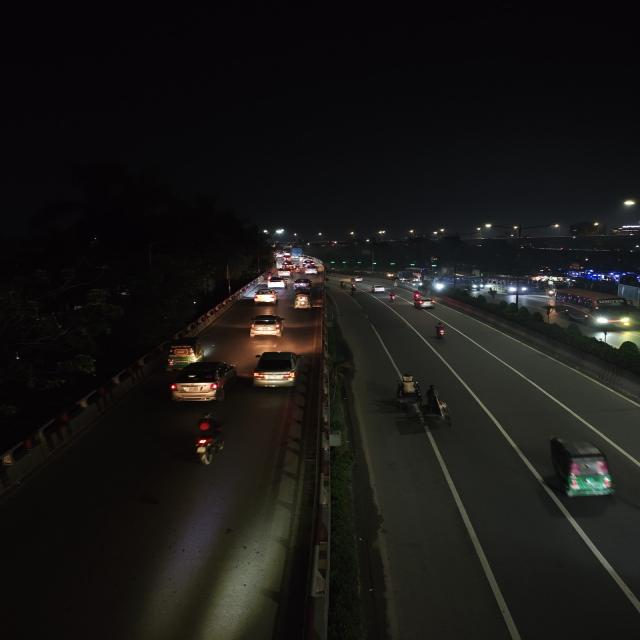bus: (549, 288, 633, 331), (506, 278, 532, 296), (458, 276, 484, 292)
car: (169, 359, 238, 404), (249, 348, 304, 391), (246, 314, 287, 338), (253, 289, 279, 305), (413, 296, 436, 310), (292, 277, 313, 291), (266, 277, 286, 289), (302, 263, 318, 275), (371, 284, 387, 294), (278, 266, 293, 274), (351, 275, 364, 283)
cng: (543, 432, 621, 503), (164, 336, 213, 366), (292, 291, 312, 311)
motorcycle: (187, 413, 229, 467), (431, 320, 451, 342), (387, 292, 399, 303)
rickshaw: (412, 394, 455, 431), (396, 378, 424, 406), (339, 280, 349, 290)
